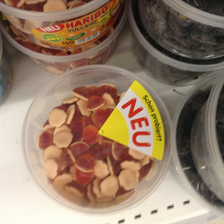candy: (21, 65, 172, 213)
